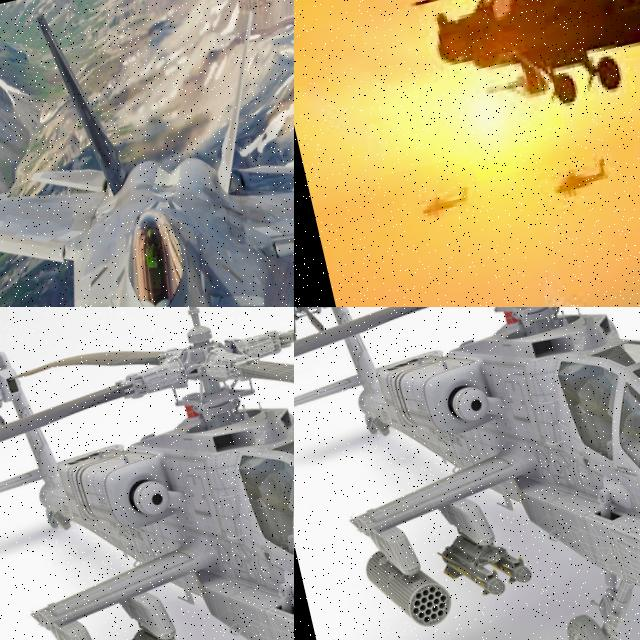Apache: (294, 307, 640, 640), (0, 307, 294, 640), (346, 0, 640, 142), (546, 148, 614, 203), (416, 179, 478, 230)
F22: (0, 0, 294, 307)
